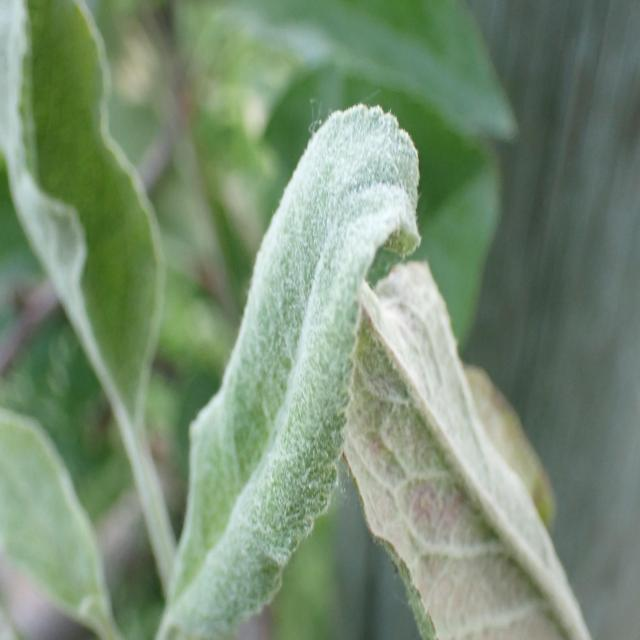Powdery_mildew: (165, 79, 430, 640), (322, 258, 594, 640), (0, 403, 137, 640)
